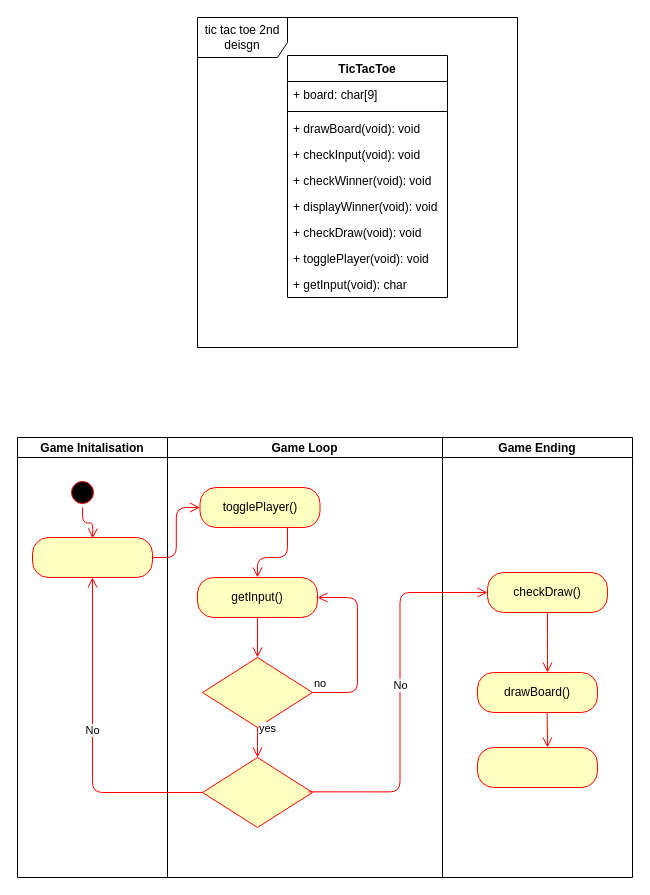
Some shapes in this 650 by 895 pixel diagram are drawn without their labels. The shapes that lost their labels are listed below. From the top down, each one's centre as x and y in pixels, then its label:
At pixel 92 557: "drawBoard".
At pixel 257 692: "inpOk=checkInput?".
At pixel 537 767: "displayWinner()".
At pixel 257 792: "ending=checkWinner?".
